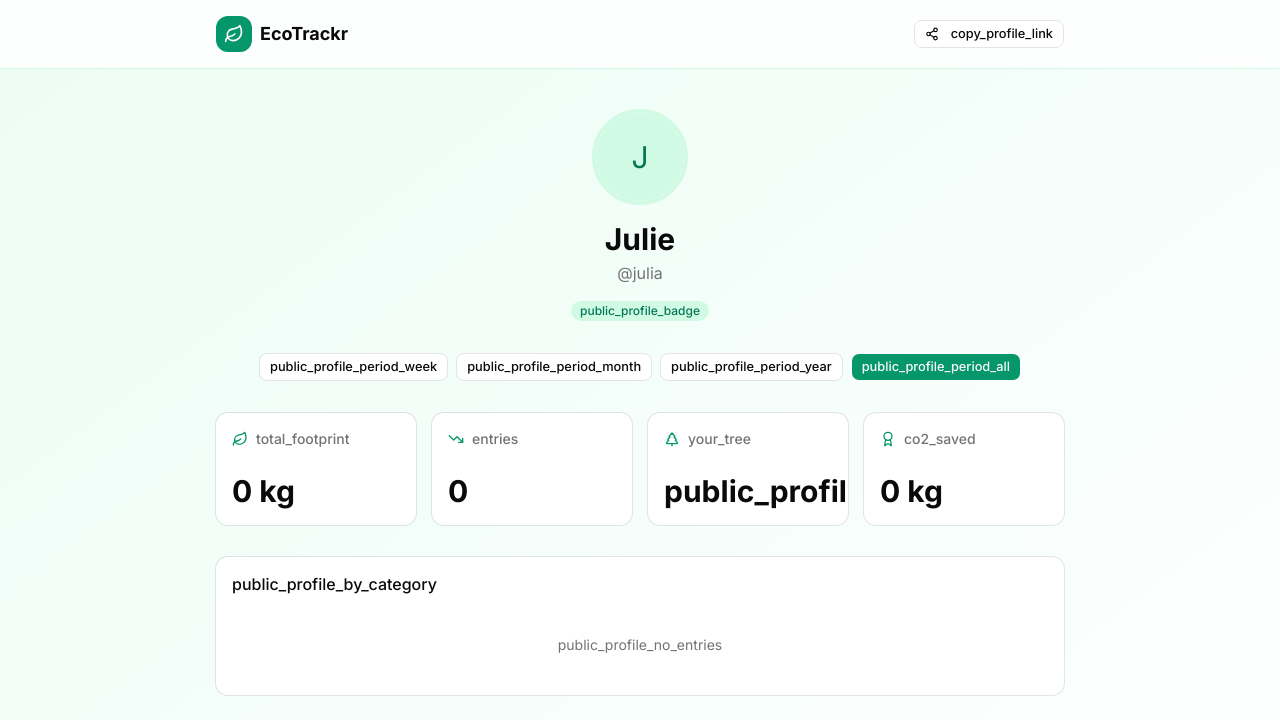
it: PublicProfilePage › copies profile link
Check: the heading "Julie" is shown, box [605,221,675,257]
Click the button "copy_profile_link" at (989,34), box [914,20,1064,48]
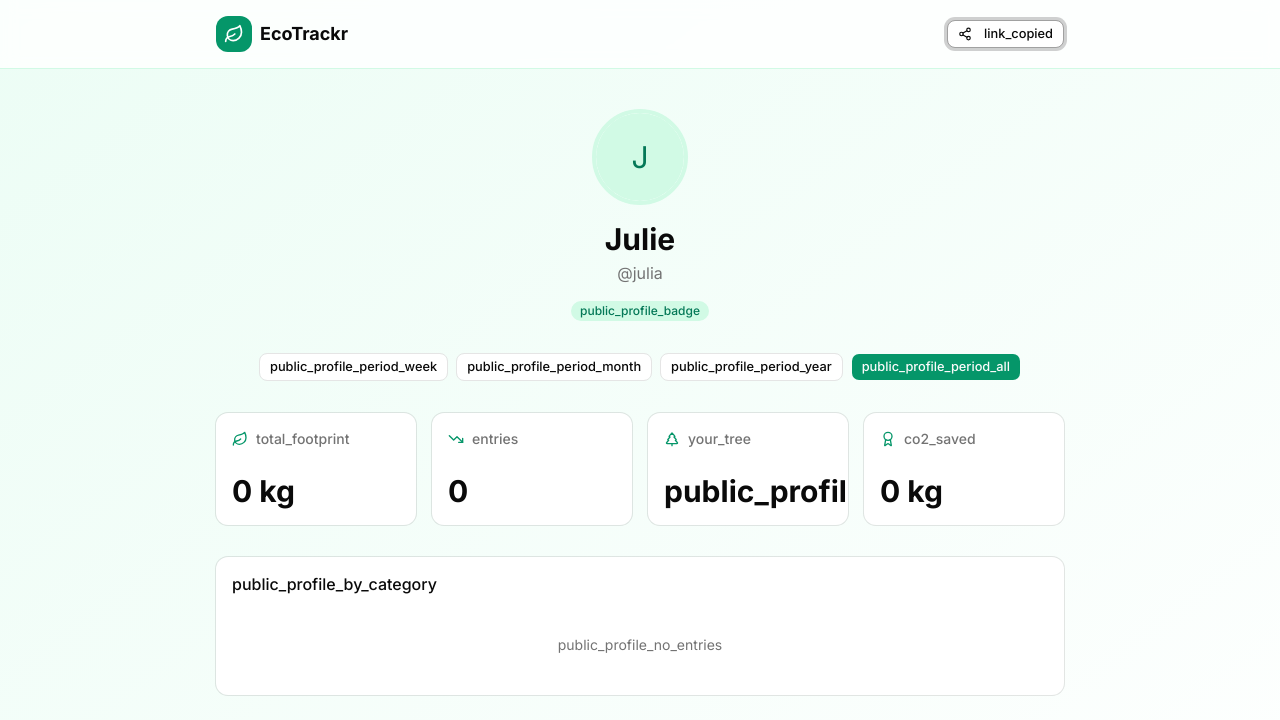
Check: the button "link_copied" is shown, box [947,20,1064,48]
